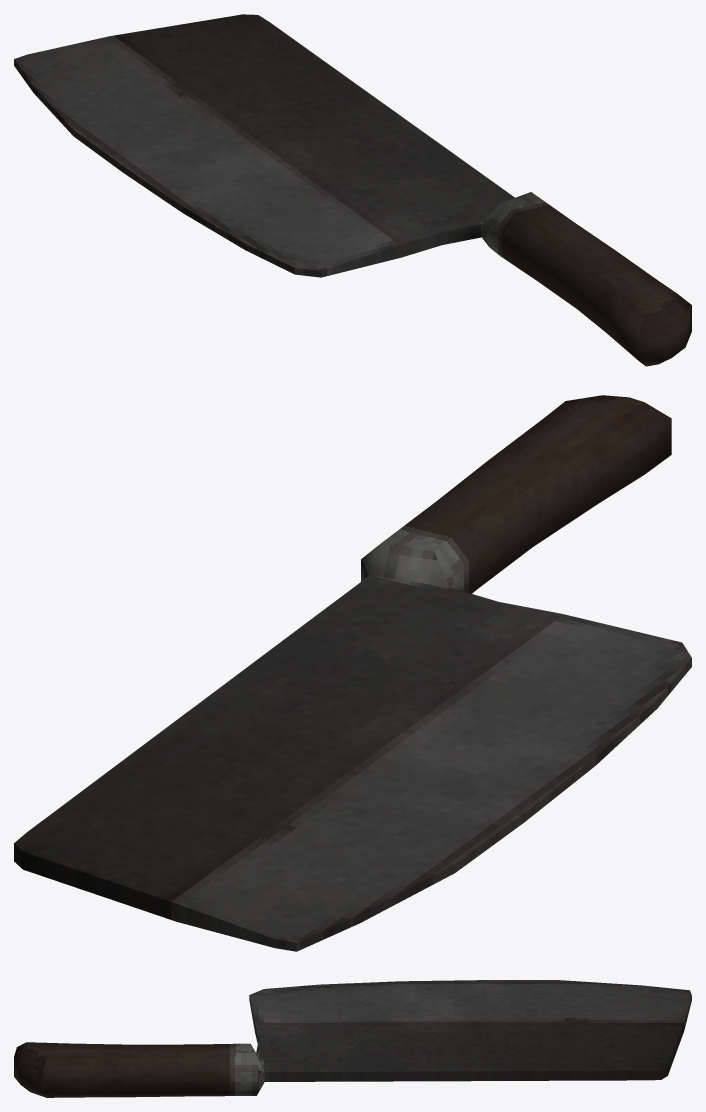
The model's file is kitchen_knife_1.glb.
The picture shows the model from 3 angles, top to bottom: view 1: azimuth 30°, elevation 25°; view 2: azimuth 150°, elevation 25°; view 3: azimuth 270°, elevation 25°; orthographic projection. The views are drawn at different scales.
Visible parts, largest first — view 1: kitchen_knife_1; view 2: kitchen_knife_1; view 3: kitchen_knife_1.
Part boxes in pixels (left/top/right/bottom): kitchen_knife_1: left=14, top=14, right=691, bottom=366; kitchen_knife_1: left=14, top=395, right=691, bottom=951; kitchen_knife_1: left=14, top=980, right=691, bottom=1097.
Size of the model in its own units: 0.1812 by 0.0334 by 0.5179.
1 material, 1 textured.
